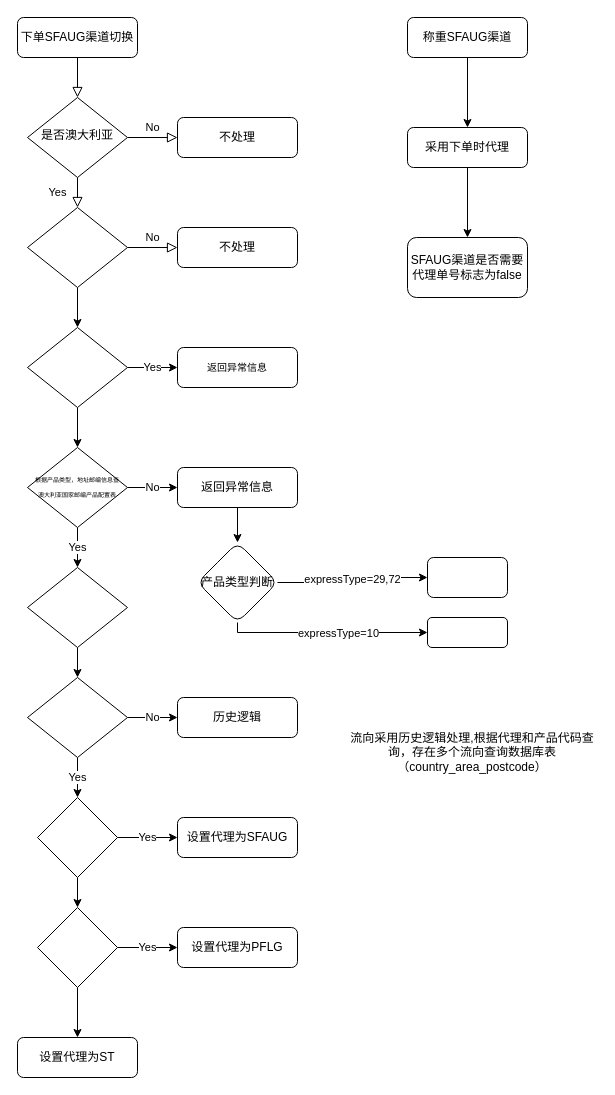
The diagram is 615 pixels wide and 1095 high, and some of its shapes have lost their labels. The shapes that lost their labels are listed below. From the top down, each one's centre as x and y in pixels, then its label:
At [77,247]: "产品类型10,29,72".
At [77,367]: "收件方邮编国家等是否为空".
At [467,577]: "转国际小包 报错信息".
At [77,607]: "澳大利亚国家地区邮编表是否存在".
At [467,632]: "未开通寄送 服务信息".
At [77,717]: "澳大利亚 10|29|72".
At [77,837]: "邮编表A".
At [77,947]: "邮编表B".
